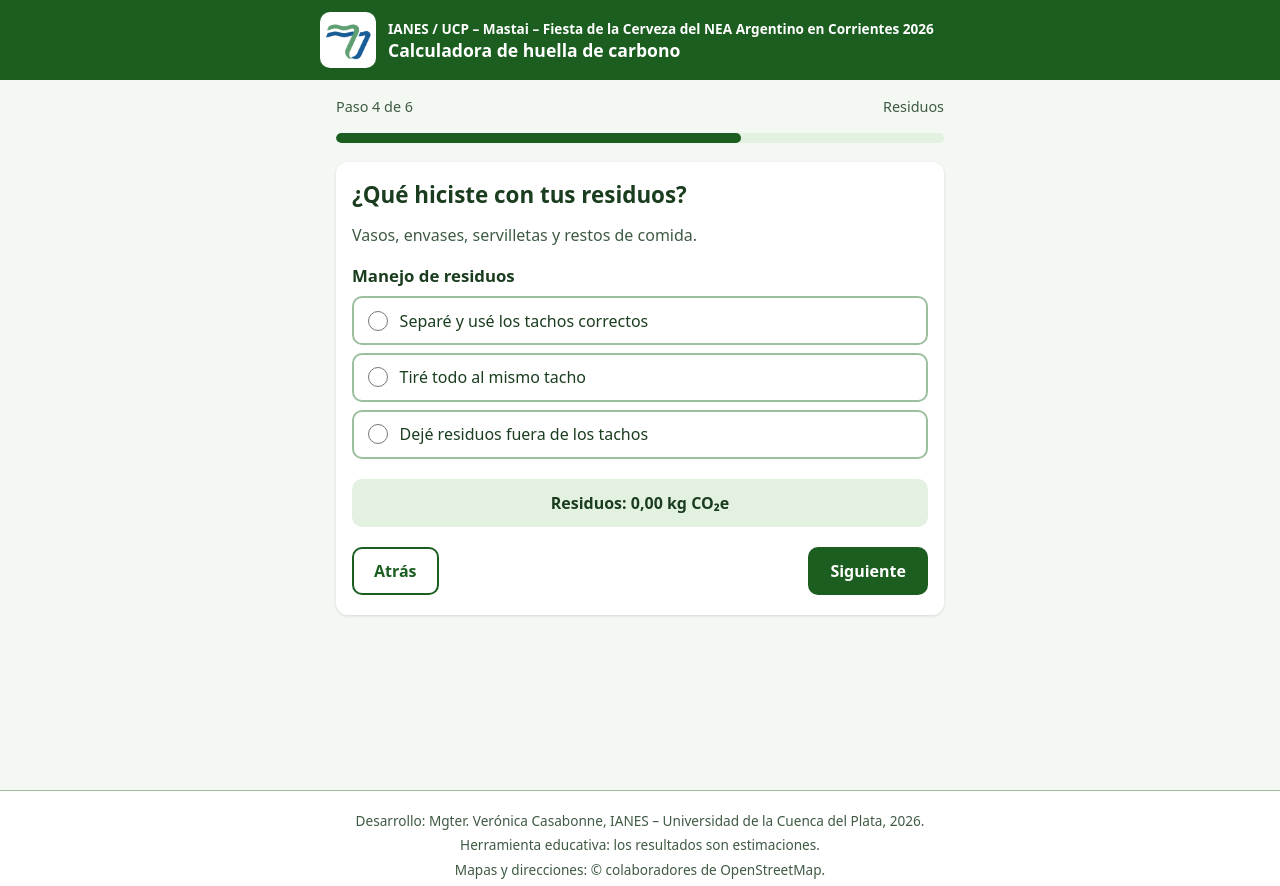
Test: asistente › dejar residuos fuera muestra el aviso educativo
What coordinates should you click on to do the following:
click the radio button labelled "Dejé residuos fuera de los tachos"
I would click on:
 (378, 434)
Its box is [368, 424, 388, 444].
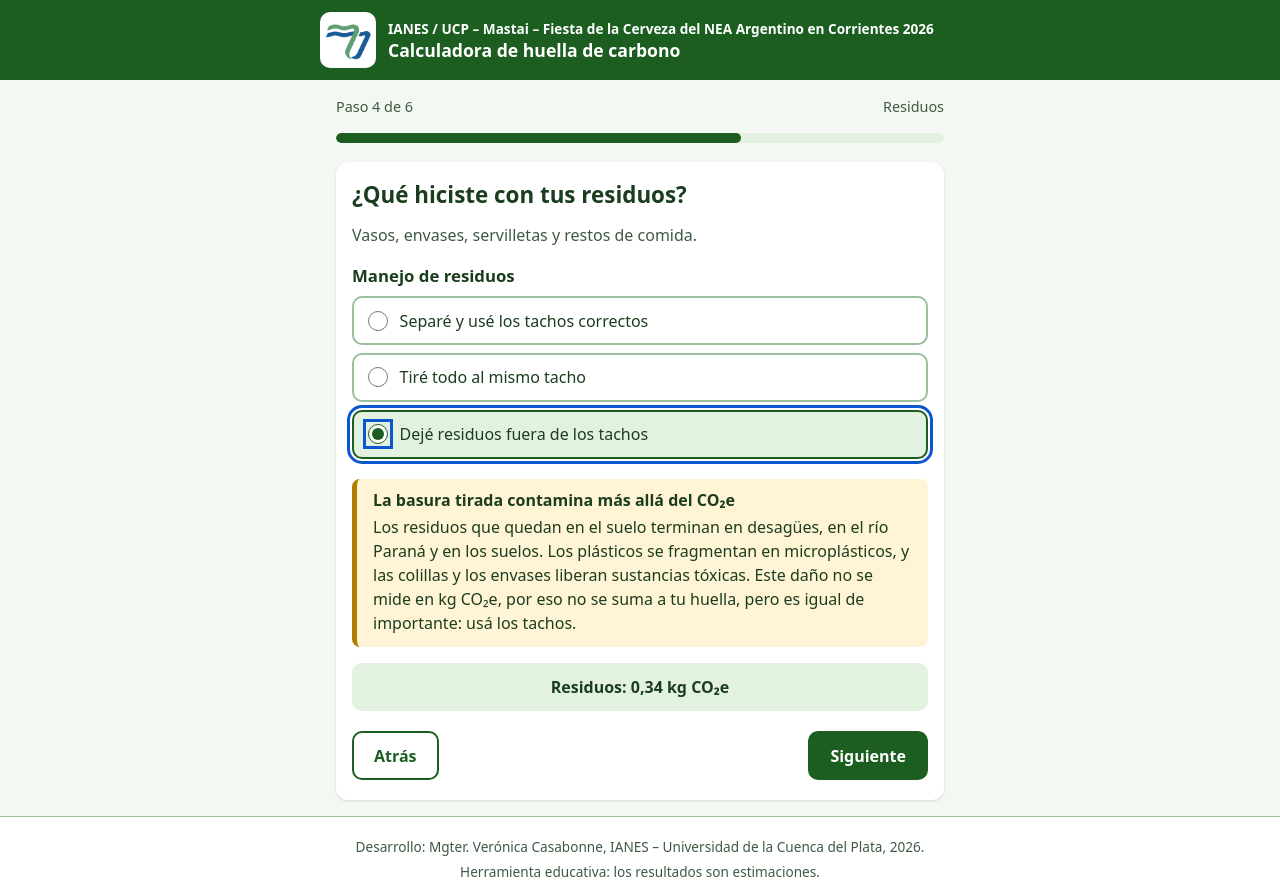
Expected: the heading "La basura tirada contamina más allá del CO₂e" is shown, [373, 489, 735, 511]
